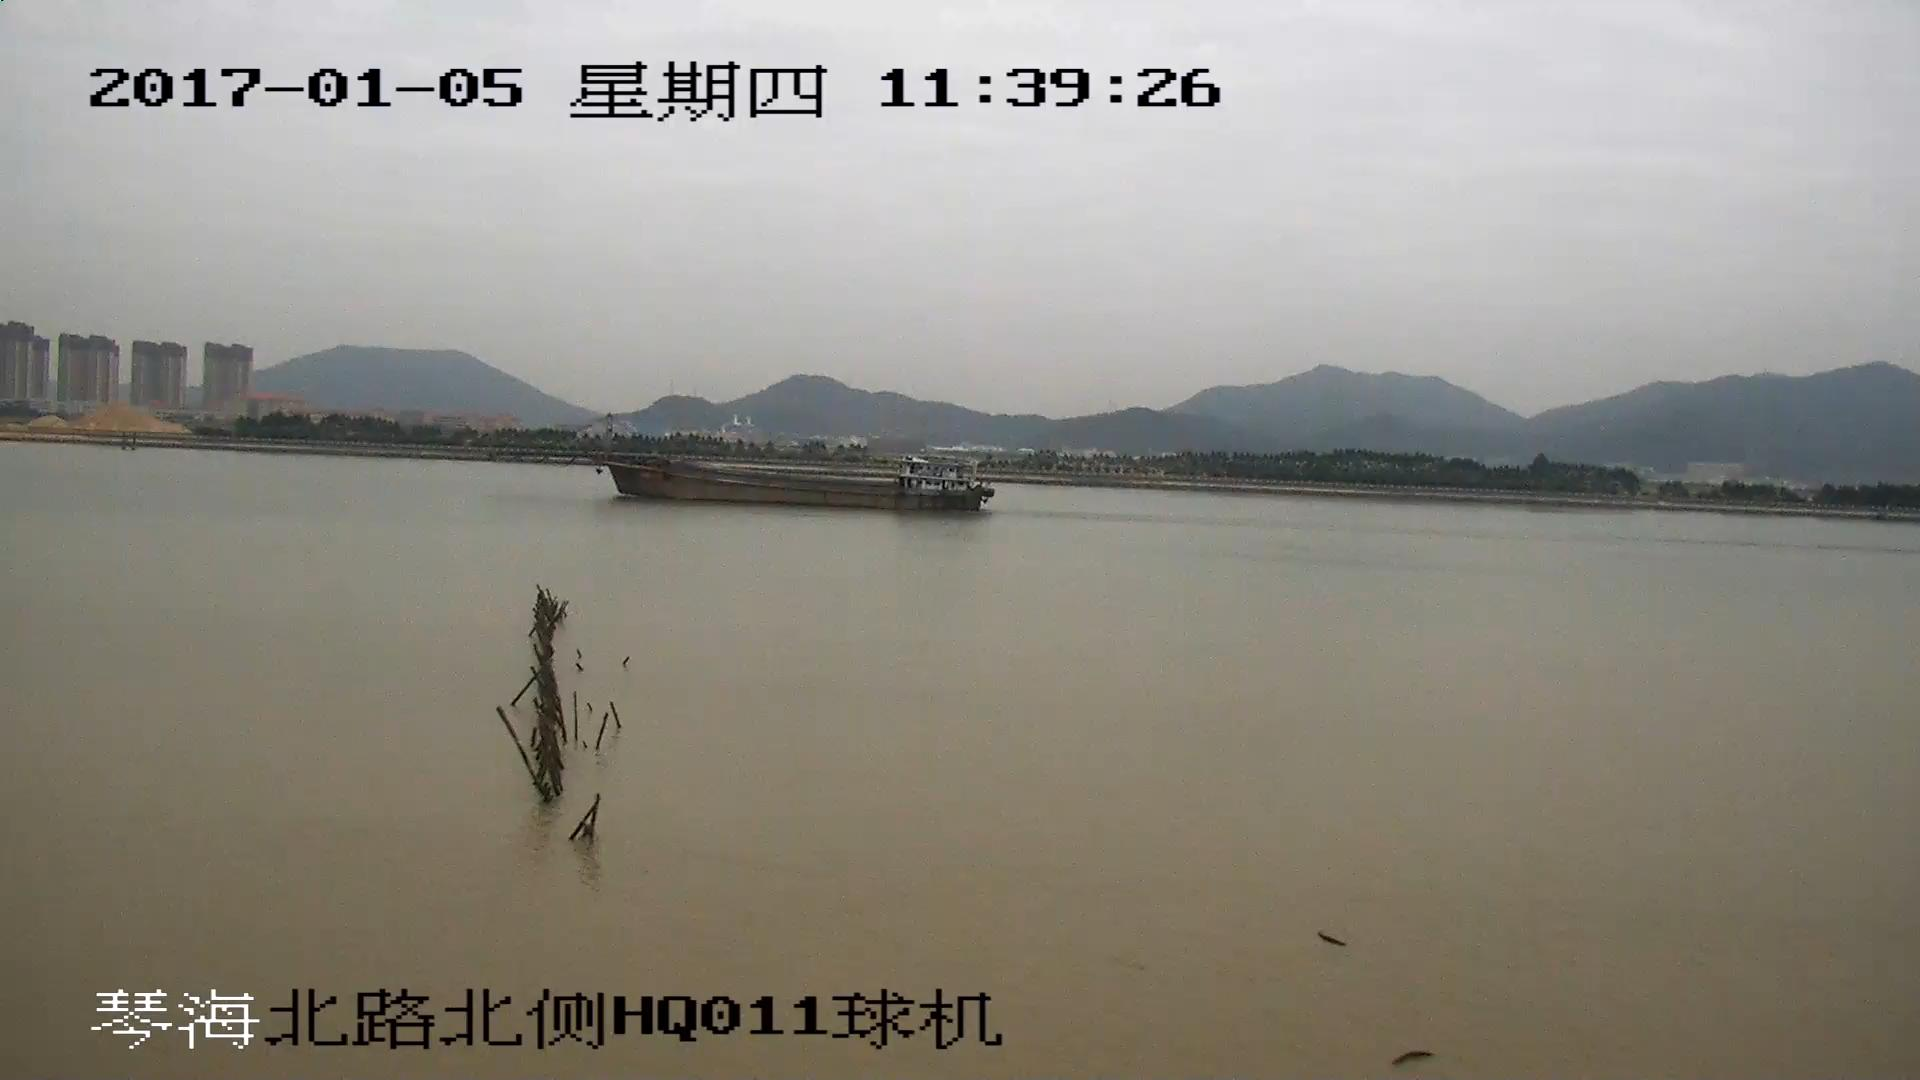bulk cargo carrier: (523, 417, 995, 516)
